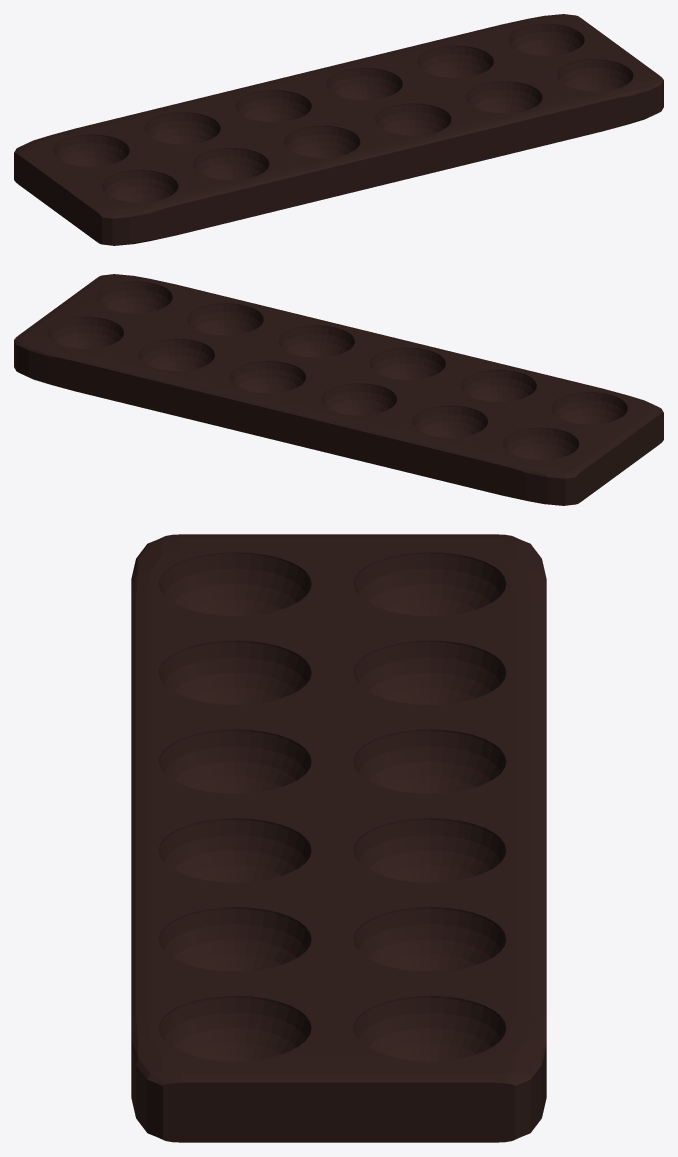
Rendered from board.glb.
3 views of the same model, one above another, from view 1: azimuth 30°, elevation 25°; view 2: azimuth 150°, elevation 25°; view 3: azimuth 270°, elevation 25° (orthographic). The views are drawn at different scales.
Parts seen in each view (by area): view 1: Board; view 2: Board; view 3: Board.
Part boxes in pixels (bbox=[...]): Board: bbox=[14, 14, 663, 245]; Board: bbox=[14, 274, 663, 505]; Board: bbox=[131, 534, 546, 1142].
Bounding box in the file's own units: 0.5 × 0.03 × 0.16.
